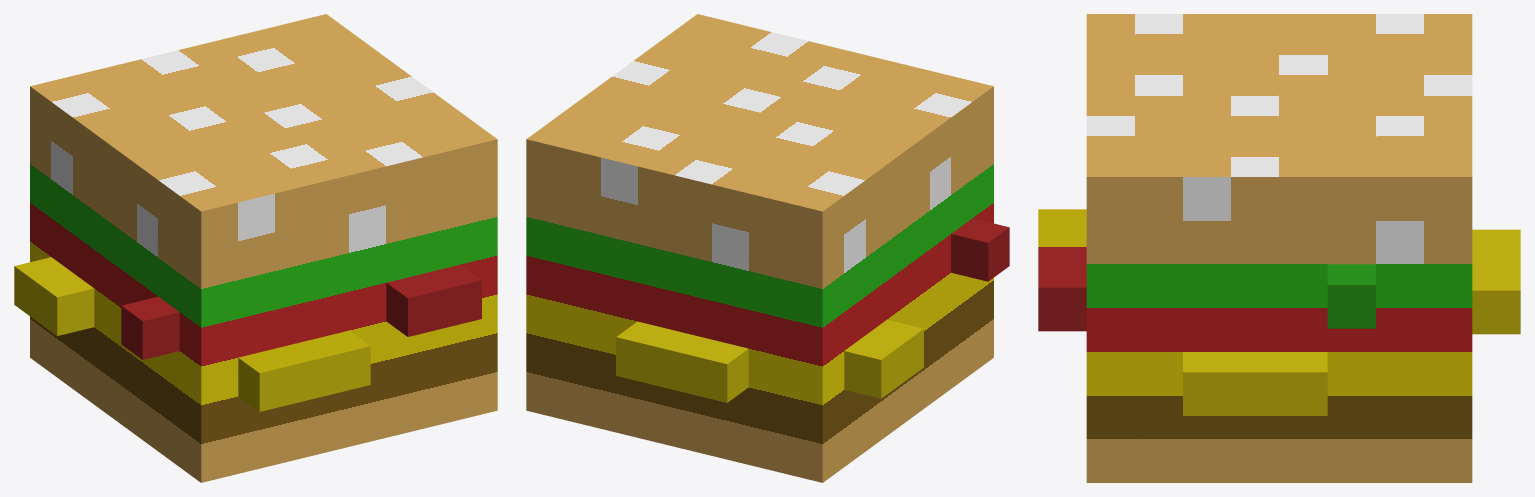
The model's file is burger.fbx.
3 views of the same model, side by side, from view 1: azimuth 30°, elevation 25°; view 2: azimuth 150°, elevation 25°; view 3: azimuth 270°, elevation 25° (orthographic). The views are drawn at different scales.
Visible parts, largest first — view 1: cube, cube_7, cube_4, cube_2, cube_5; view 2: cube, cube_1, cube_2, cube_5; view 3: cube, cube_6, cube_1, cube_4, cube_3, cube_7.
Boxes of the visible parts, x1,y1,x2,y2 form: cube: (30, 14, 497, 482); cube_7: (238, 330, 370, 411); cube_4: (386, 264, 481, 336); cube_2: (14, 257, 94, 335); cube_5: (121, 296, 179, 359); cube: (526, 14, 993, 482); cube_1: (616, 321, 748, 402); cube_2: (844, 319, 923, 398); cube_5: (951, 218, 1009, 281); cube: (1086, 14, 1472, 482); cube_6: (1183, 352, 1327, 415); cube_1: (1472, 229, 1520, 334); cube_4: (1038, 247, 1086, 331); cube_3: (1327, 264, 1375, 328); cube_7: (1038, 209, 1086, 246).
Bounding box in the file's own units: 62.5 × 43.75 × 62.5.
1 material, 1 textured.
